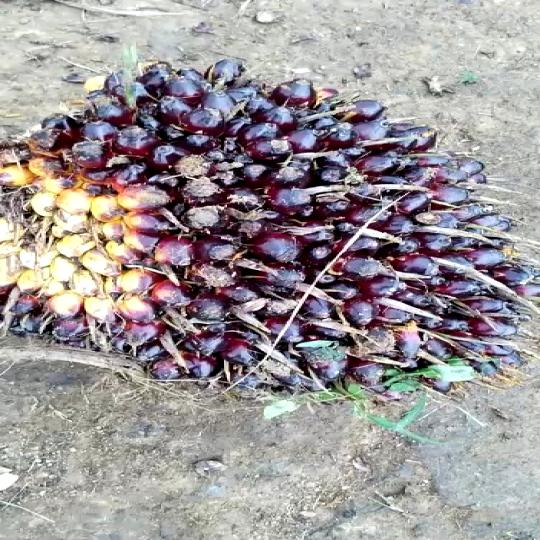mentah: (0, 58, 531, 399)
